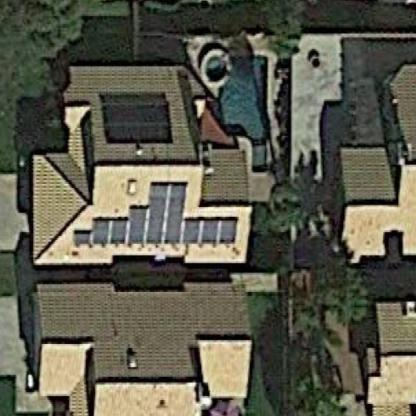solar_panel: (66, 177, 244, 257), (93, 85, 179, 150)
swimming_pool: (192, 32, 286, 167)
